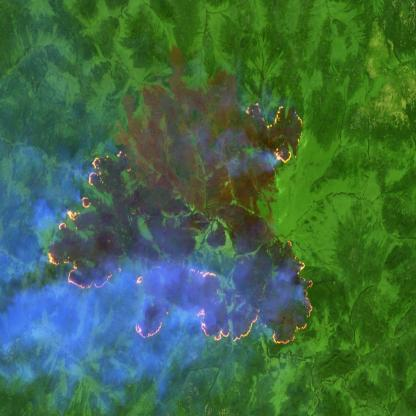fire: (46, 99, 316, 351)
